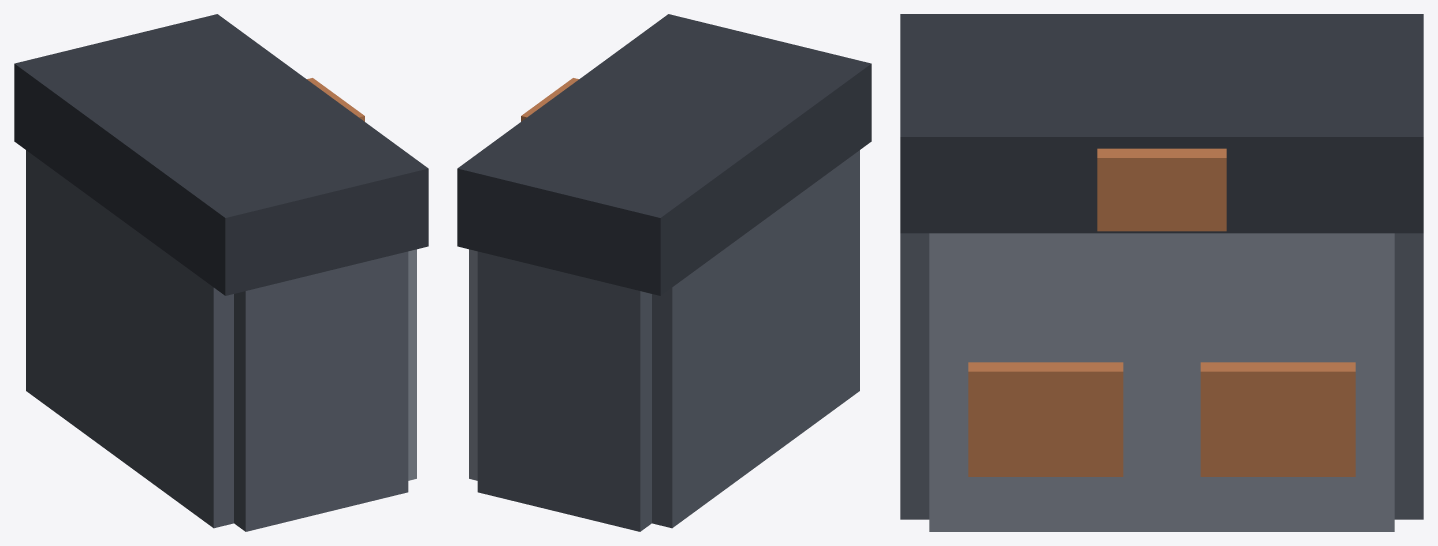
The model's file is armor_legs.glb.
3 renders of one model, left to right at view 1: azimuth 30°, elevation 25°; view 2: azimuth 150°, elevation 25°; view 3: azimuth 270°, elevation 25°, orthographic. The views are drawn at different scales.
Parts seen in each view (by area): view 1: body.042, leg_y-, leg_y+; view 2: body.042, leg_y+, leg_y-; view 3: body.042, leg_y+, leg_y-.
Part boxes in pixels (box(x1,y1,x2,y2)): body.042: box(14, 14, 428, 295); leg_y-: box(120, 219, 416, 531); leg_y+: box(26, 150, 119, 459); body.042: box(457, 14, 871, 295); leg_y+: box(469, 219, 765, 531); leg_y-: box(766, 150, 859, 459); body.042: box(900, 14, 1423, 233); leg_y+: box(1162, 233, 1423, 531); leg_y-: box(900, 233, 1161, 531).
Size of the model in its own units: 0.3031 by 0.4219 by 0.5063.
